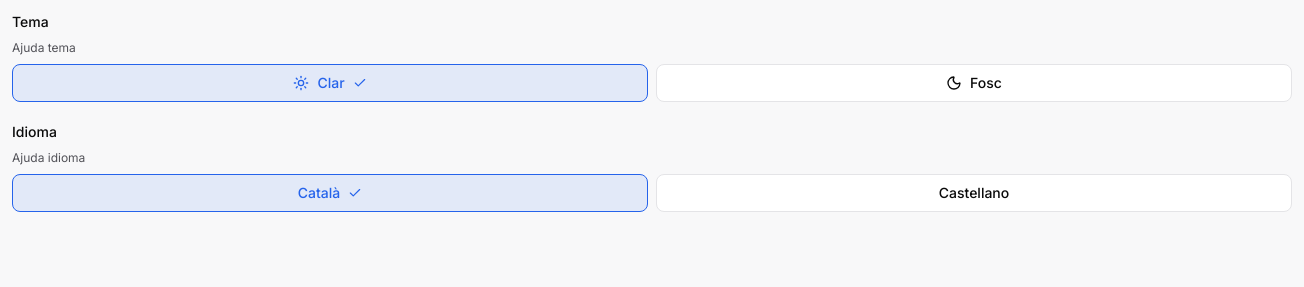
Test: PreferencesForm › falls back to the generic message when the server returns no error
The width and height of the screenshot is (1304, 287).
Click the radio button labelled "Fosc" at (974, 83), box [656,64,1292,102]
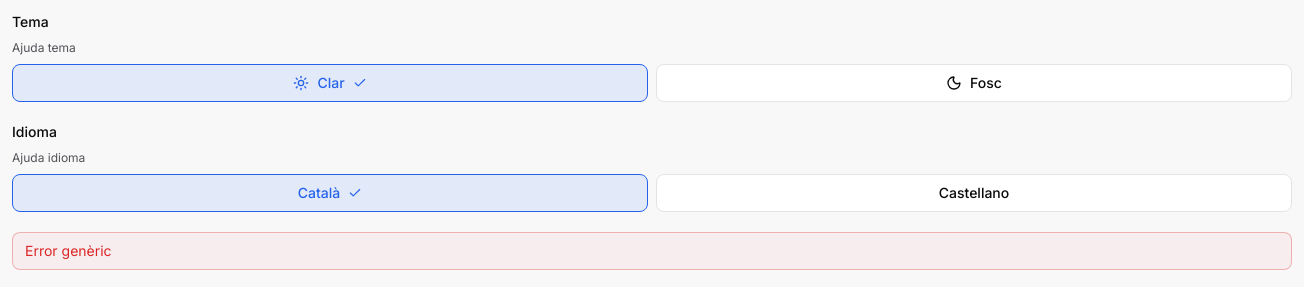
Result: the text "Error genèric" is shown at [12,232,1292,270]
